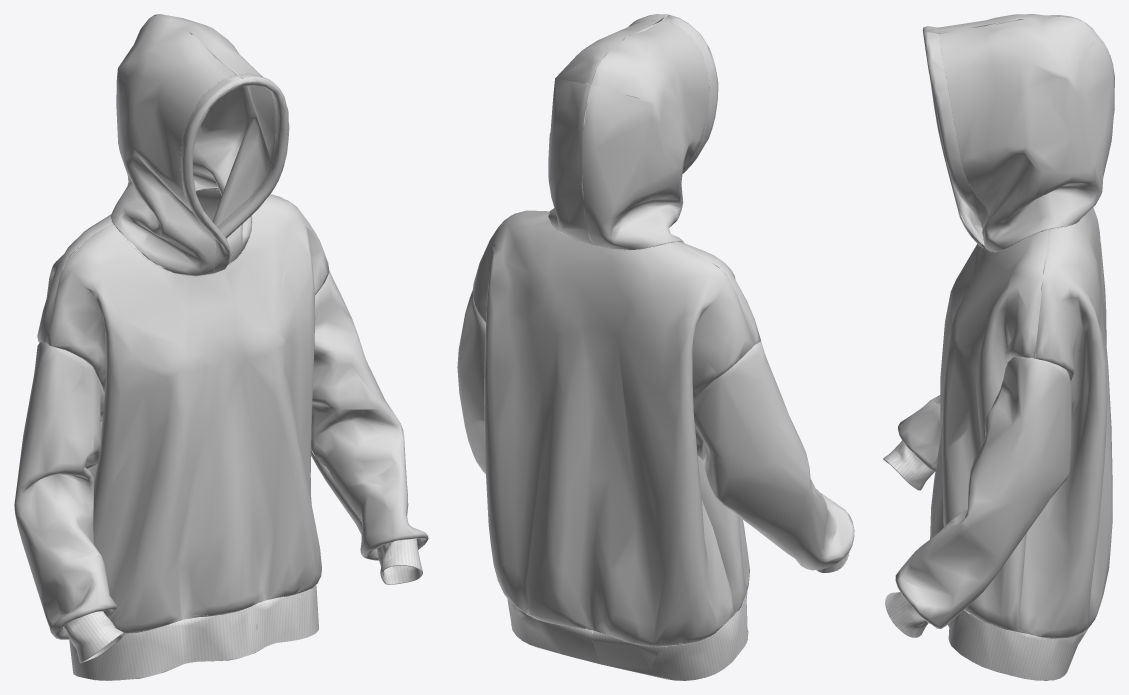
File: hoodie-3d.glb
3 views of the same model, side by side, from view 1: azimuth 30°, elevation 25°; view 2: azimuth 150°, elevation 25°; view 3: azimuth 270°, elevation 25° (orthographic). The views are drawn at different scales.
Parts seen in each view (by area): view 1: Cloth_1; view 2: Cloth_1; view 3: Cloth_1.
Part boxes in pixels (x1,y1,x2,y2): Cloth_1: (14,14,428,680); Cloth_1: (457,14,854,680); Cloth_1: (883,14,1114,680).
Size of the model in its own units: 0.616 by 1 by 0.3397.
Materials: 5 (2 with a texture image).
